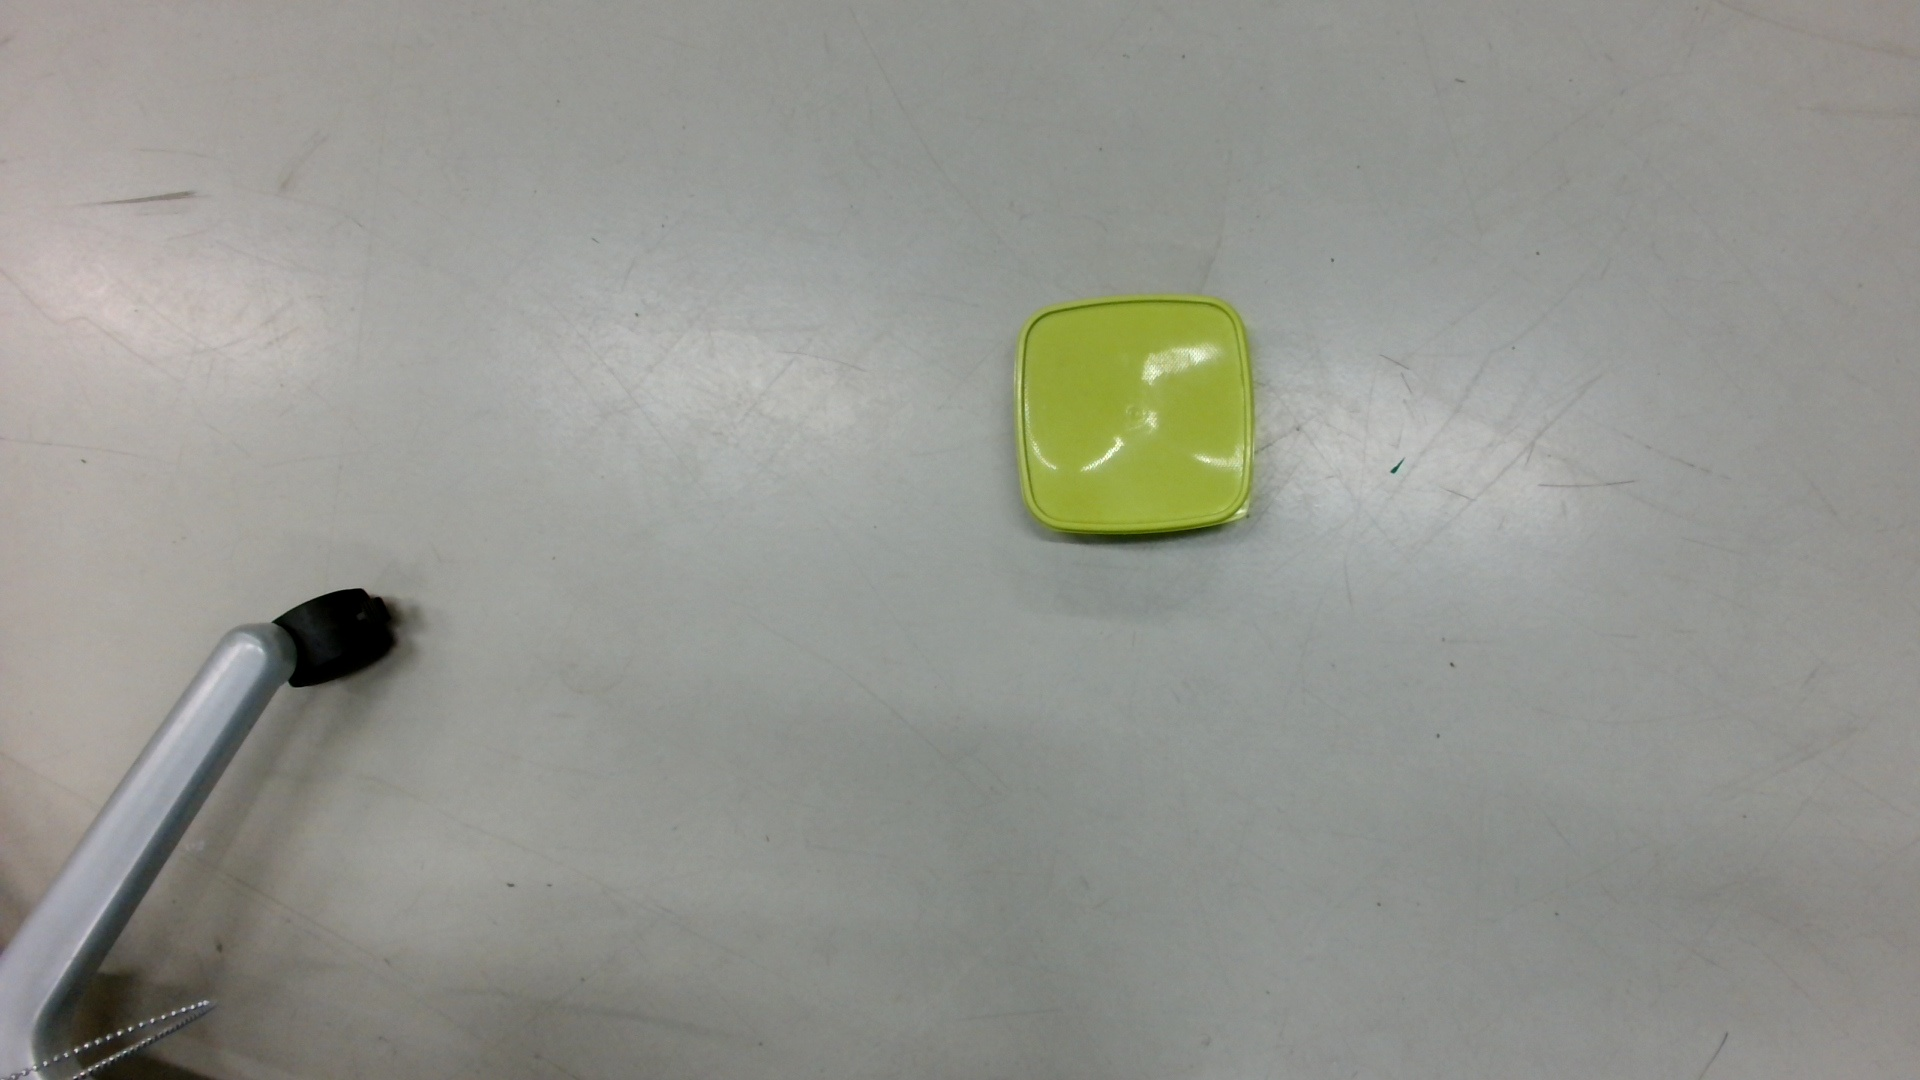Box: (1007, 287, 1265, 545)
